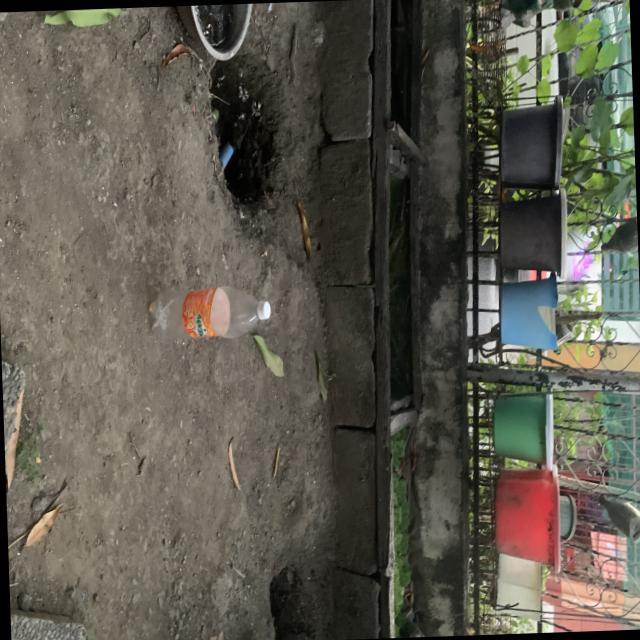Bottle: (148, 285, 270, 337)
